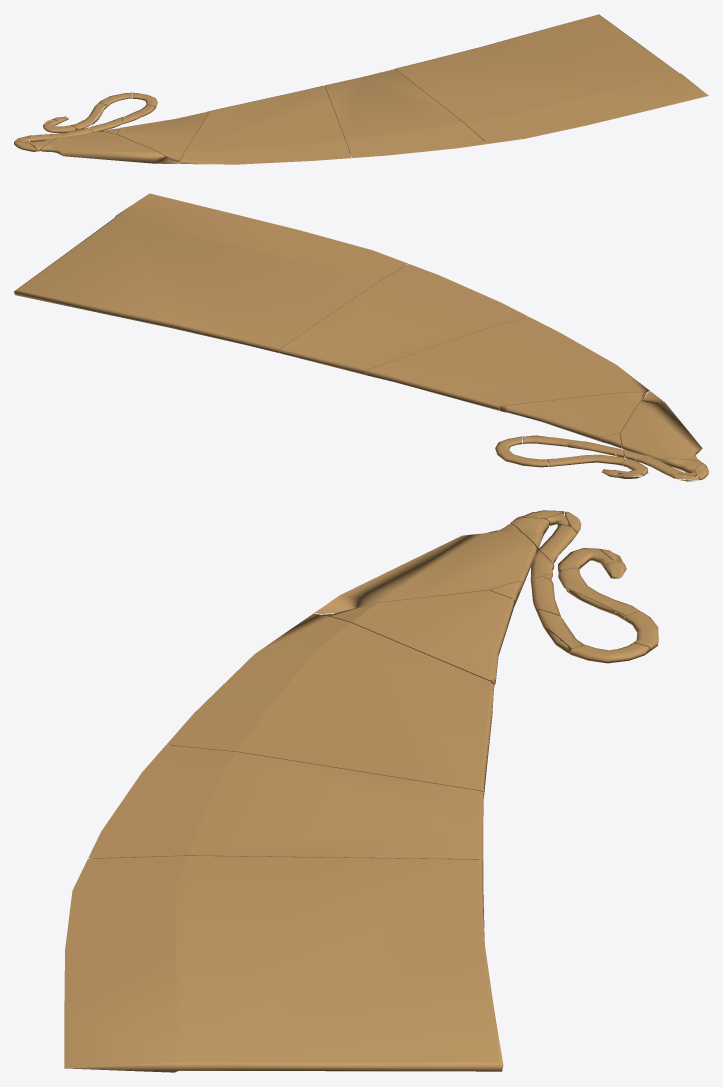
The model's file is razor.fbx.
The picture shows the model from 3 angles, top to bottom: view 1: azimuth 30°, elevation 25°; view 2: azimuth 150°, elevation 25°; view 3: azimuth 270°, elevation 25°; orthographic projection. The views are drawn at different scales.
Parts seen in each view (by area): view 1: Razor_cell.012, Razor_cell.014, Razor_cell.009, Razor_cell.015, Razor_cell.021, Razor_cell.020, Razor_cell.017; view 2: Razor_cell.012, Razor_cell.014, Razor_cell.009, Razor_cell.021, Razor_cell.015, Razor_cell.020, Razor_cell.017; view 3: Razor_cell.012, Razor_cell.014, Razor_cell.009, Razor_cell.015, Razor_cell.021, Razor_cell.020, Razor_cell.017, Razor_cell.023.
Part boxes in pixels (box(x1,y1,x2,y2)): Razor_cell.012: box(395, 14, 708, 143); Razor_cell.014: box(179, 85, 351, 164); Razor_cell.009: box(325, 69, 487, 157); Razor_cell.015: box(42, 129, 179, 163); Razor_cell.021: box(117, 112, 209, 162); Razor_cell.020: box(29, 132, 69, 151); Razor_cell.017: box(70, 103, 105, 129); Razor_cell.012: box(14, 193, 407, 353); Razor_cell.014: box(366, 317, 649, 410); Razor_cell.009: box(280, 264, 528, 375); Razor_cell.021: box(505, 392, 646, 441); Razor_cell.015: box(620, 391, 702, 461); Razor_cell.020: box(636, 458, 703, 476); Razor_cell.017: box(548, 454, 624, 466); Razor_cell.012: box(64, 855, 503, 1072); Razor_cell.014: box(166, 613, 493, 798); Razor_cell.009: box(88, 745, 483, 864); Razor_cell.015: box(314, 524, 553, 613); Razor_cell.021: box(322, 590, 513, 684); Razor_cell.020: box(510, 518, 576, 566); Razor_cell.017: box(558, 568, 640, 615); Razor_cell.023: box(569, 643, 649, 663).
Size of the model in its own units: 210 by 1.54 by 94.65.
